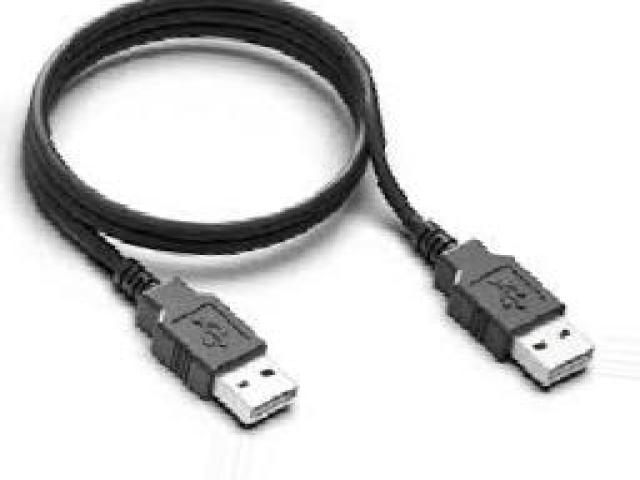wire: (25, 0, 594, 427)
